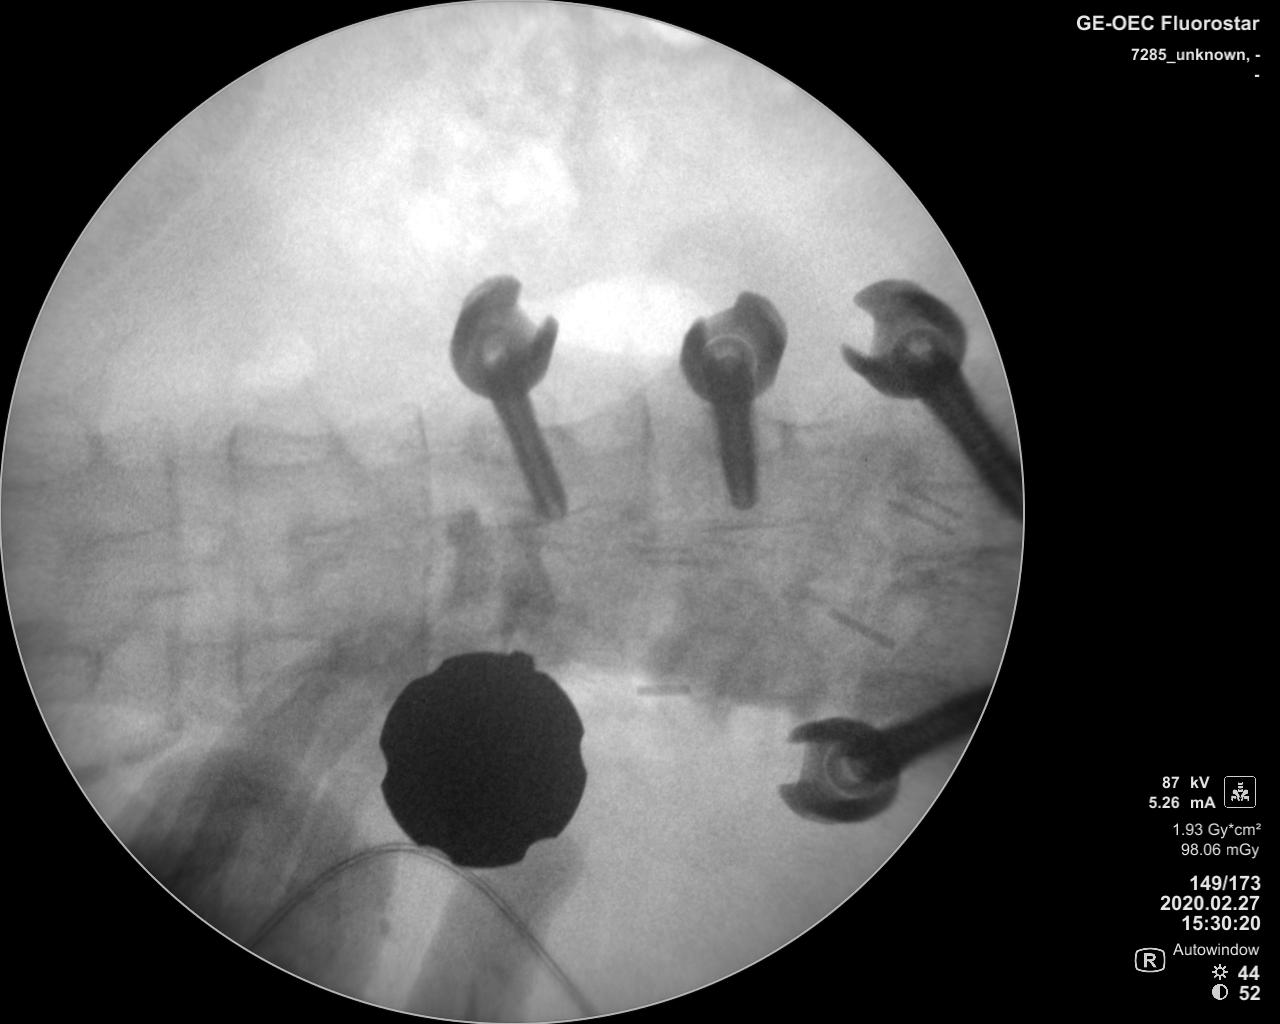eyes: (5, 418, 97, 488), (230, 631, 340, 681), (225, 425, 342, 470), (37, 639, 102, 703)
line: (155, 434, 184, 711), (222, 427, 247, 705), (411, 399, 436, 671)
nose: (497, 501, 658, 558), (86, 519, 238, 565), (284, 511, 436, 555)
